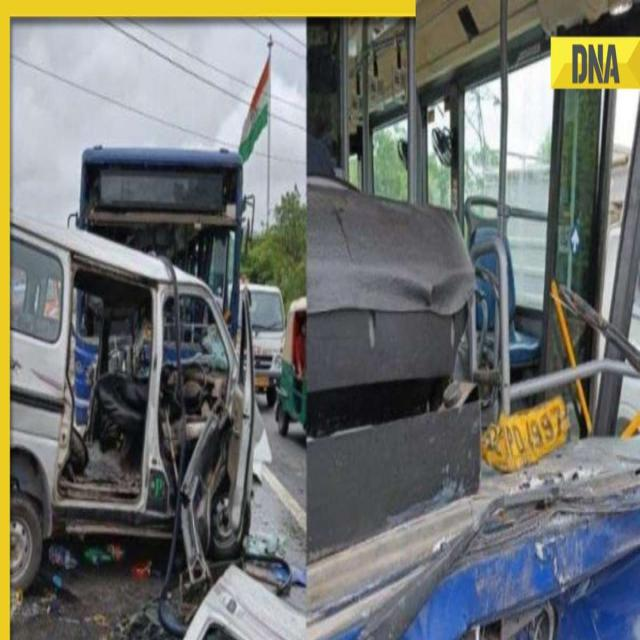accident: (10, 218, 304, 640)
